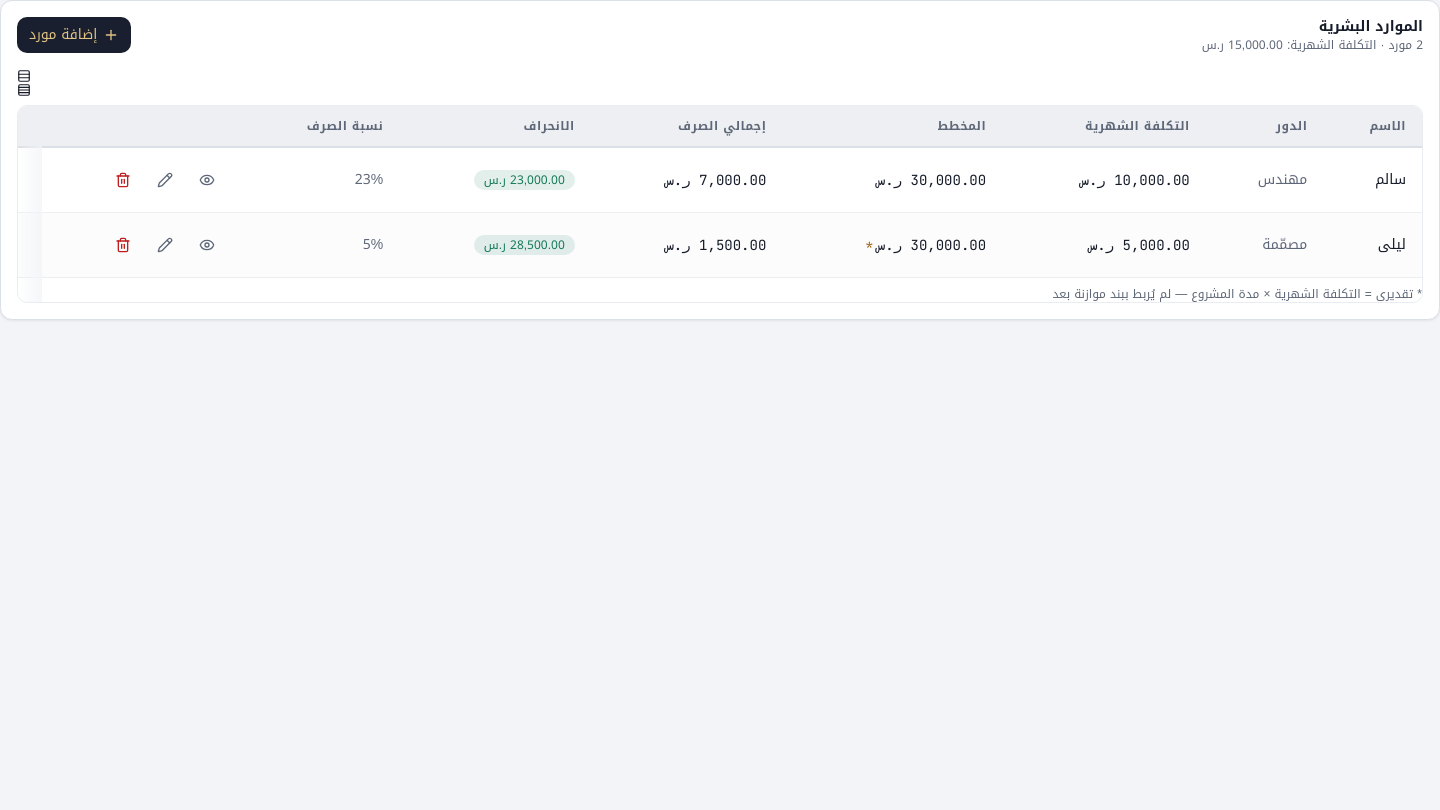
it: adding and editing a resource › adds the resource, then offers a recurring salary item over the project and creates it on yes
The width and height of the screenshot is (1440, 810).
Later steps or results of the test are not shown.
Click the button "إضافة مورد".
click(74, 35)  # box [17,17,131,53]
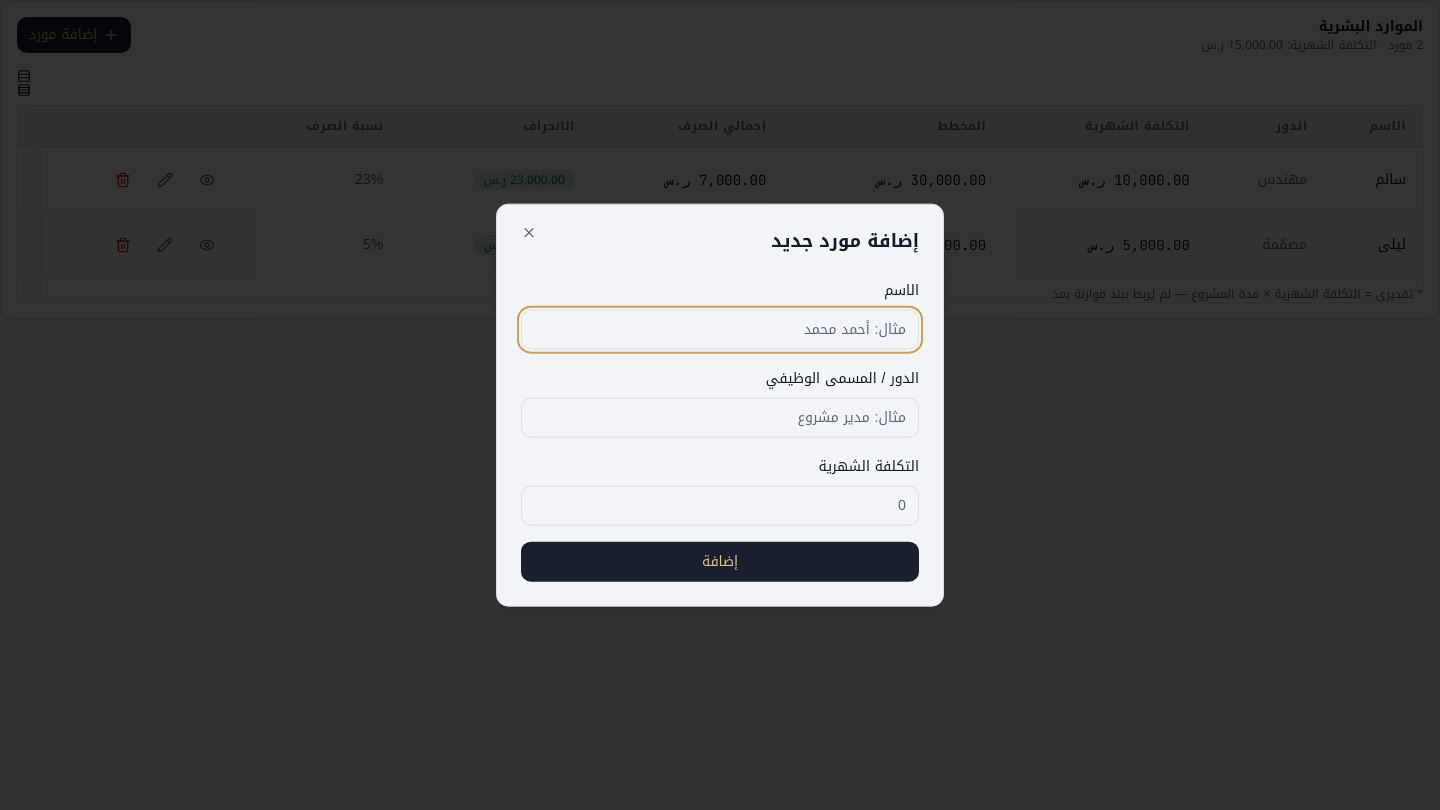
Type "نورة" into the field with placeholder "مثال: أحمد محمد".
click(720, 329); type("نورة")  # box [521,309,919,349]
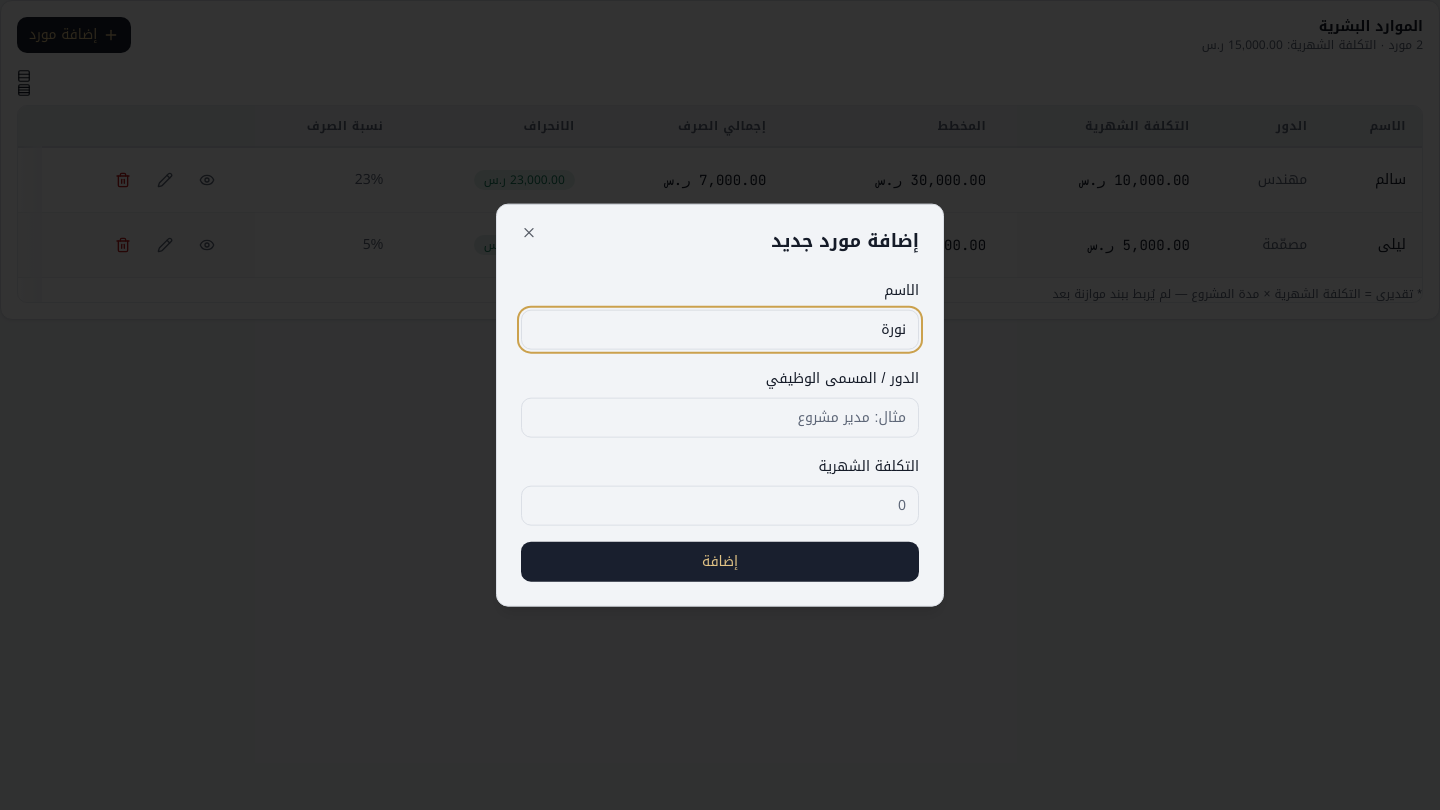
Type "محاسبة" into the field with placeholder "مثال: مدير مشروع".
click(720, 417); type("محاسبة")  # box [521,397,919,437]
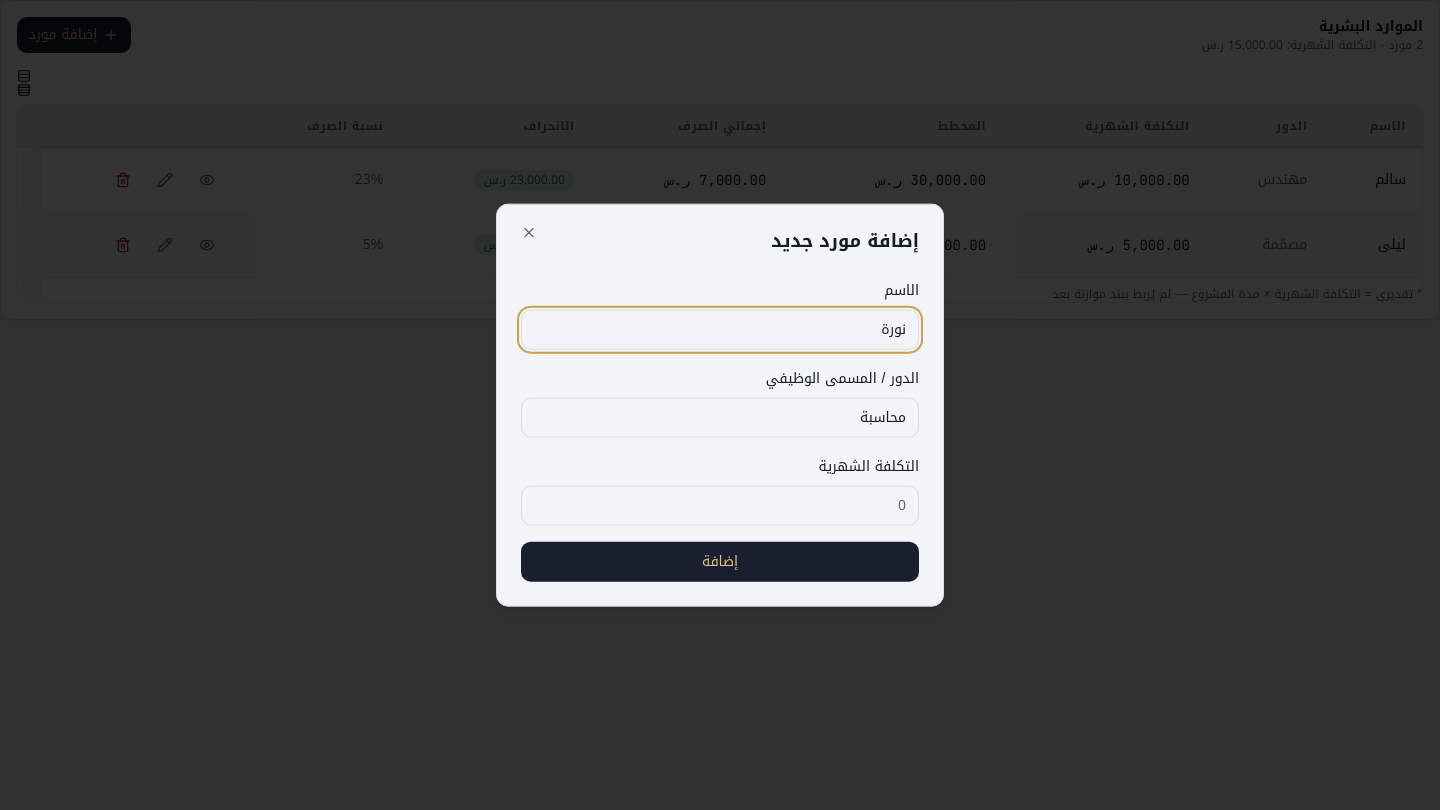
Type "8000" into the number field with placeholder "0".
click(720, 505); type("8000")  # box [521,485,919,525]
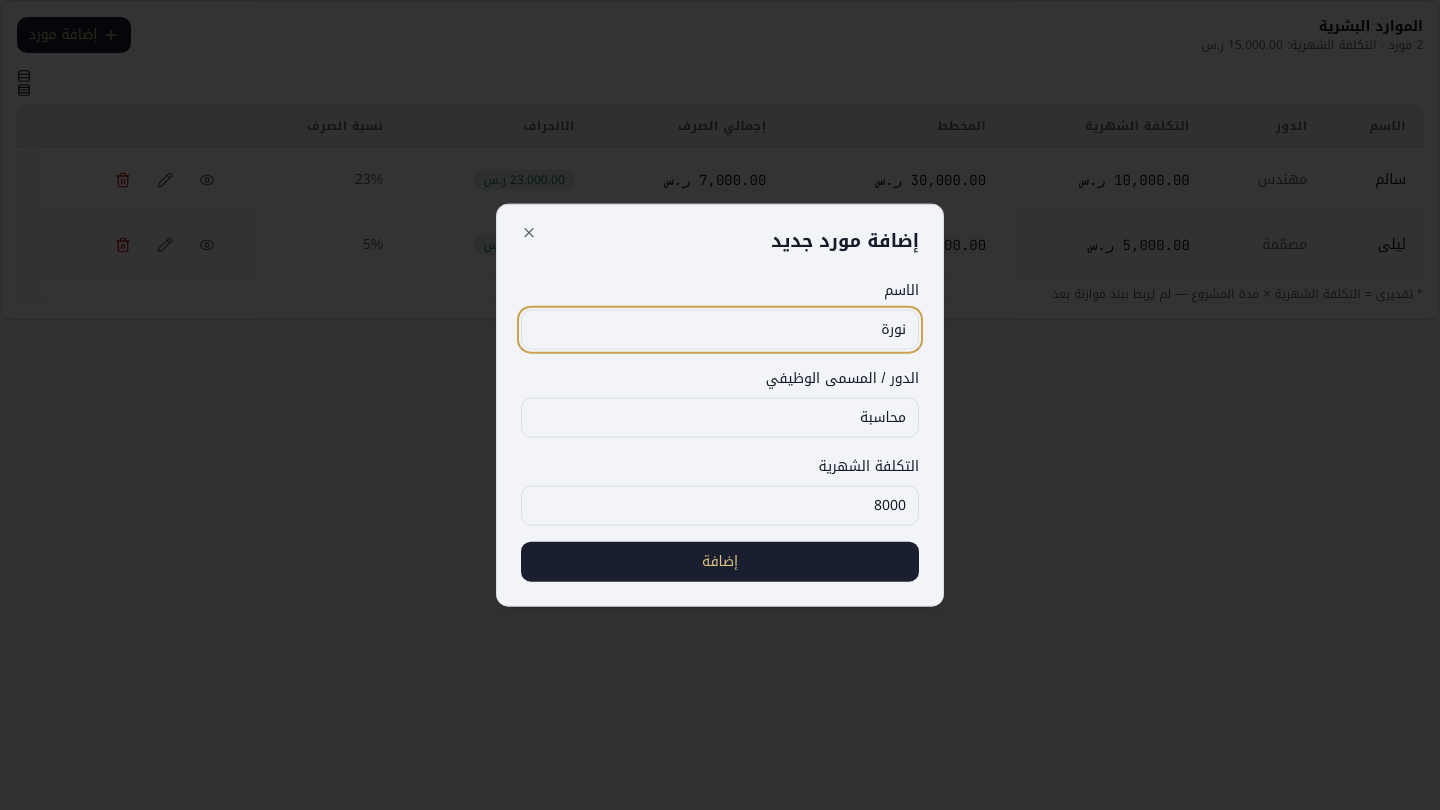
Click the button "إضافة".
click(720, 561)  # box [521,541,919,581]
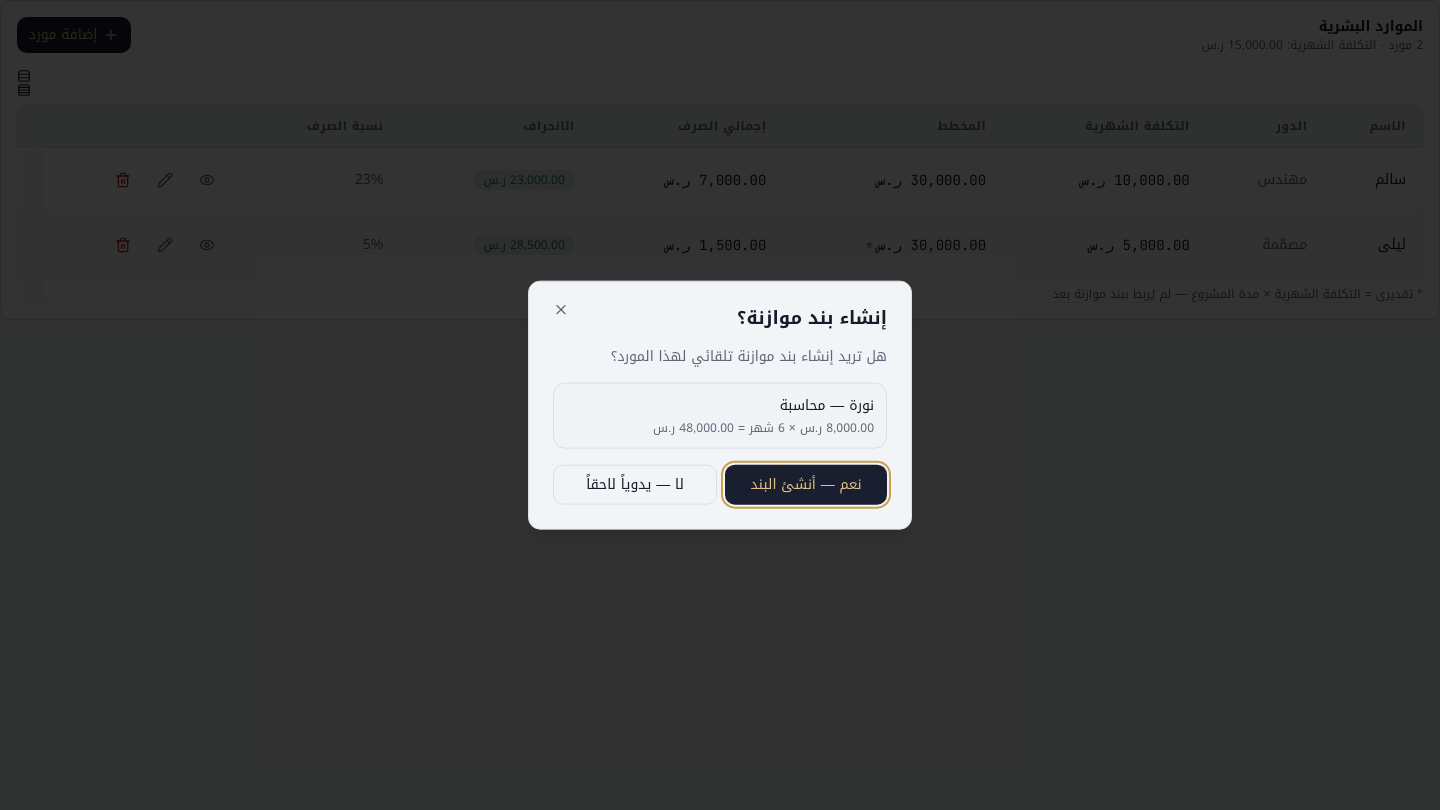
Now the dialog shows "8,000.00 ر.س × 6 شهر = 48,000.00 ر.س", box [528,281,912,529]
